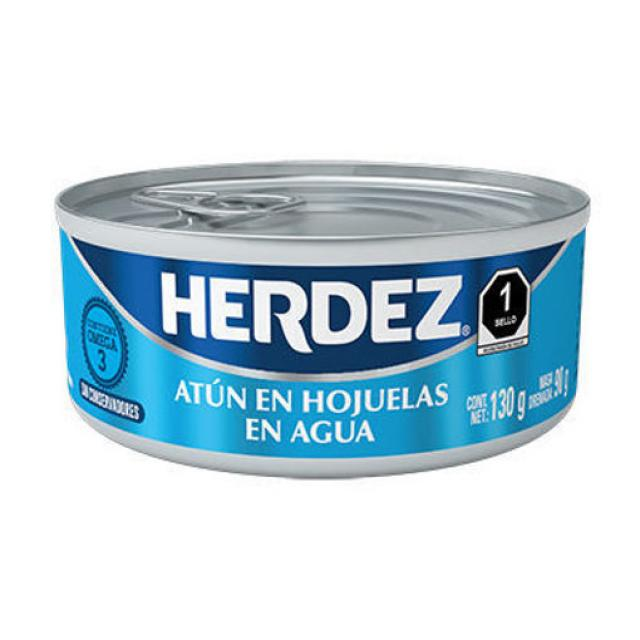Lata: (59, 157, 587, 476)
